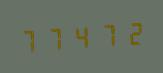four: (68, 20, 92, 52)
seven: (18, 24, 42, 55), (43, 22, 67, 53), (93, 19, 117, 50)
two: (118, 17, 142, 48)
